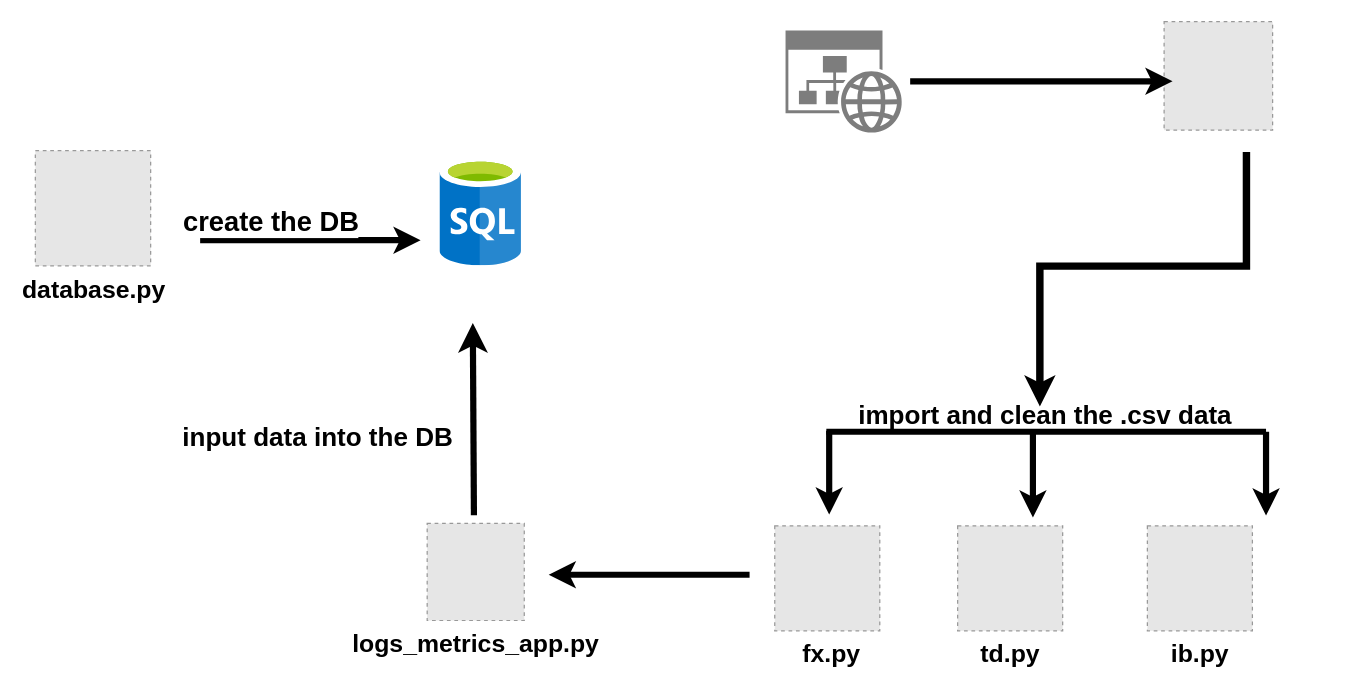
The diagram is 1360 pixels wide and 691 high, and some of its shapes have lost their labels. Grey dashed boxes stand in for pictures. The shapes that lost their labels are listed below. From the top down, each one's box as (x1, y1, x2, y2) in pixels, then its label:
(785, 30, 901, 132): Download .csv files (manual)
(439, 158, 521, 265): transactions
